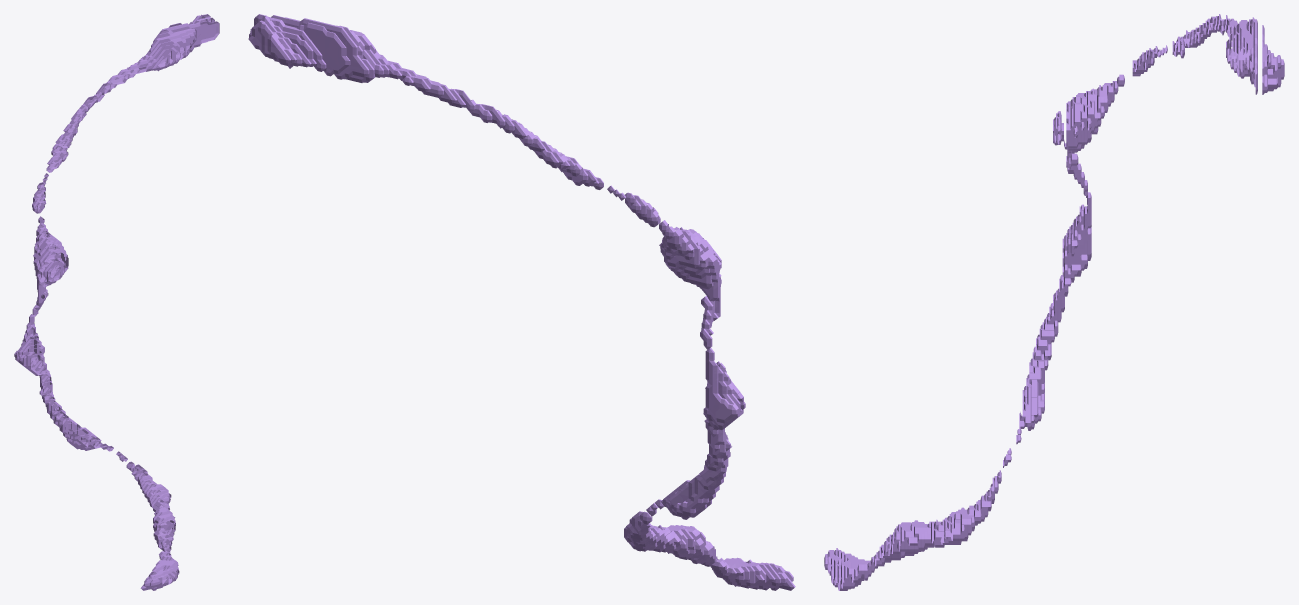
File: SVV_AWAL.gltf
3 views of the same model, side by side, from view 1: azimuth 30°, elevation 25°; view 2: azimuth 150°, elevation 25°; view 3: azimuth 270°, elevation 25° (orthographic). The views are drawn at different scales.
Visible parts, largest first — view 1: AWAL; view 2: AWAL; view 3: AWAL.
Boxes of the visible parts, x1,y1,x2,y2 form: AWAL: (14, 14, 219, 590); AWAL: (248, 14, 795, 590); AWAL: (824, 14, 1284, 590).
Size of the model in its own units: 53796 by 85035 by 53131.
